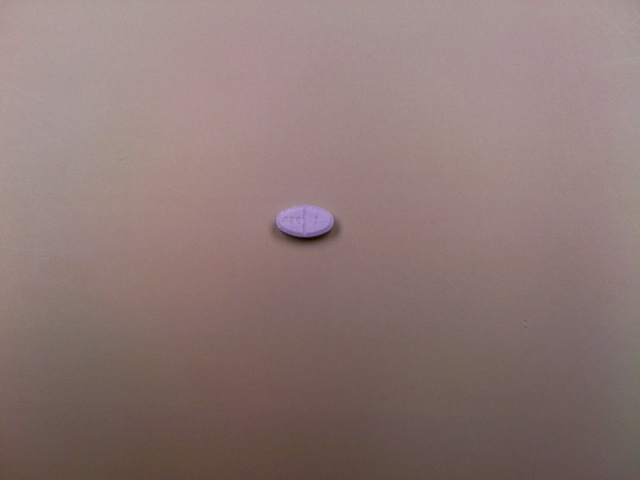A: (281, 215, 288, 226)
S: (296, 215, 301, 227)
|: (300, 203, 308, 239)
